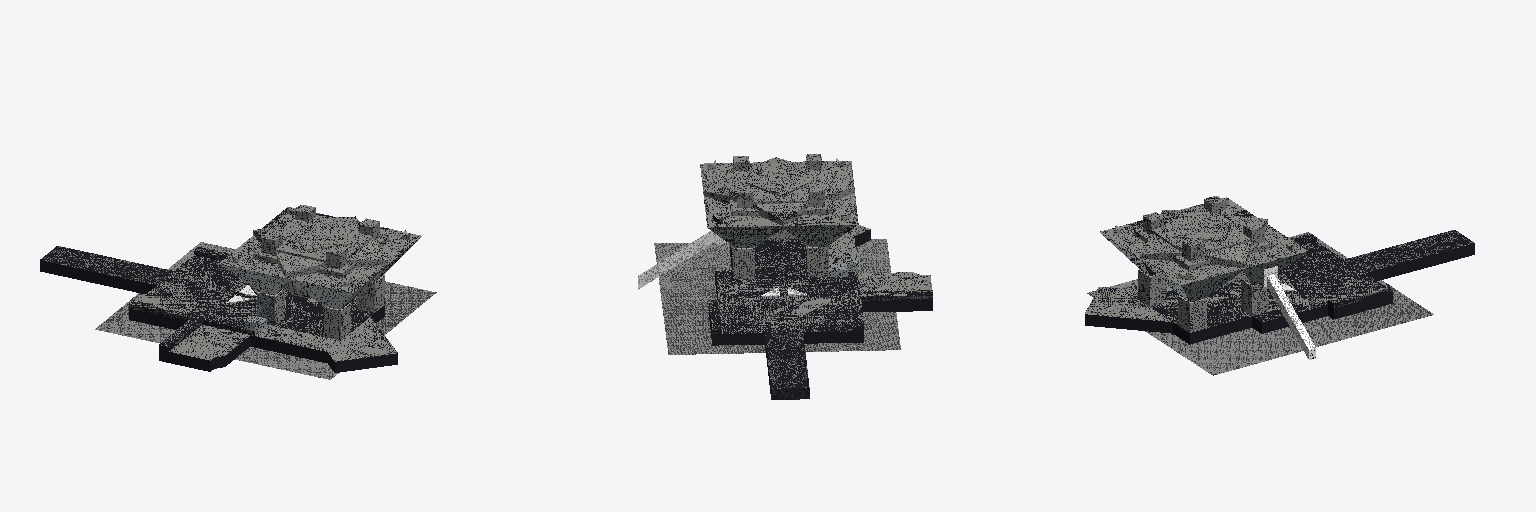
3 views of the same model, side by side, from view 1: azimuth 30°, elevation 25°; view 2: azimuth 150°, elevation 25°; view 3: azimuth 270°, elevation 25° (orthographic).
Parts seen in each view (by area): view 1: Mesh2 Model, Mesh1 Google_Earth_Snapshot Model; view 2: Mesh2 Model, Mesh1 Google_Earth_Snapshot Model; view 3: Mesh2 Model, Mesh1 Google_Earth_Snapshot Model.
Boxes of the visible parts, x1,y1,x2,y2 form: Mesh2 Model: [40, 205, 421, 372]; Mesh1 Google_Earth_Snapshot Model: [95, 242, 436, 379]; Mesh2 Model: [638, 154, 932, 399]; Mesh1 Google_Earth_Snapshot Model: [654, 239, 900, 354]; Mesh2 Model: [1085, 196, 1474, 359]; Mesh1 Google_Earth_Snapshot Model: [1087, 232, 1433, 375].
Size of the model in its own units: 217 by 67.36 by 249.
82 materials, 6 textured.